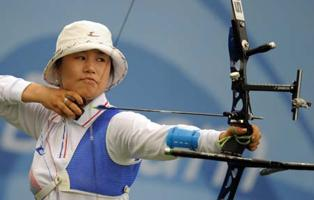person: (1, 19, 263, 199)
